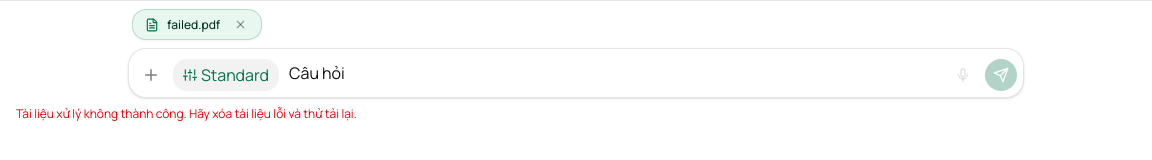
it: chat attachments › blocks a failed document and lets the student remove it to continue
The image size is (1152, 160).
Check: the message "Tài liệu xử lý không thành công. Hãy xóa tài liệu lỗi và thử tải lại." is shown, box [16, 105, 357, 122]
Check: the button titled "Gửi" is disabled, box [985, 59, 1017, 91]
Click the button titled "Xóa tài liệu đính kèm": [241, 24] box [232, 16, 249, 33]
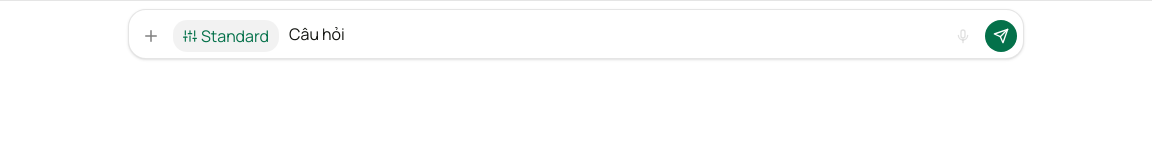
Check: the message "Tài liệu xử lý không thành công. Hãy xóa tài liệu lỗi và thử tải lại." is gone
Check: the button titled "Gửi" is enabled, box [985, 20, 1017, 52]
